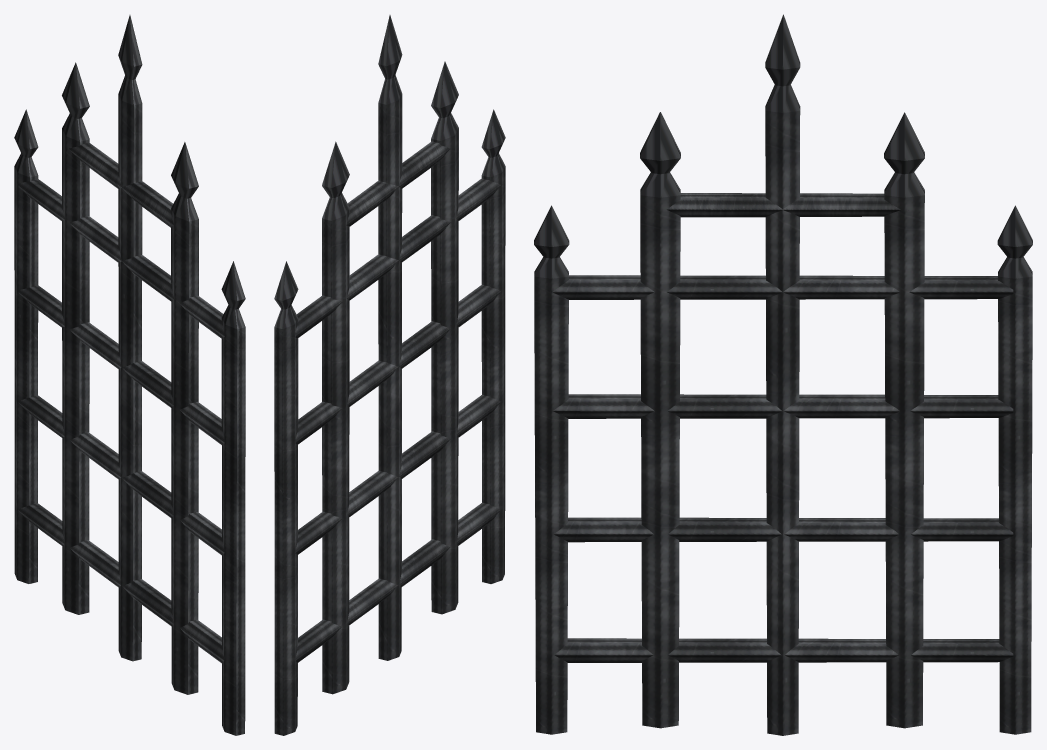
The model's file is adv2_fenc_door.fbx.
The picture shows the model from 3 angles, left to right: view 1: azimuth 30°, elevation 25°; view 2: azimuth 150°, elevation 25°; view 3: azimuth 270°, elevation 25°; orthographic projection. The views are drawn at different scales.
Parts seen in each view (by area): view 1: Default_Layer; view 2: Default_Layer; view 3: Default_Layer.
Boxes of the visible parts, bbox=[...] form: Default_Layer: bbox=[14, 15, 245, 735]; Default_Layer: bbox=[274, 15, 505, 735]; Default_Layer: bbox=[534, 14, 1032, 735].
Bounding box in the file's own units: 5.09 × 148 × 93.55.
